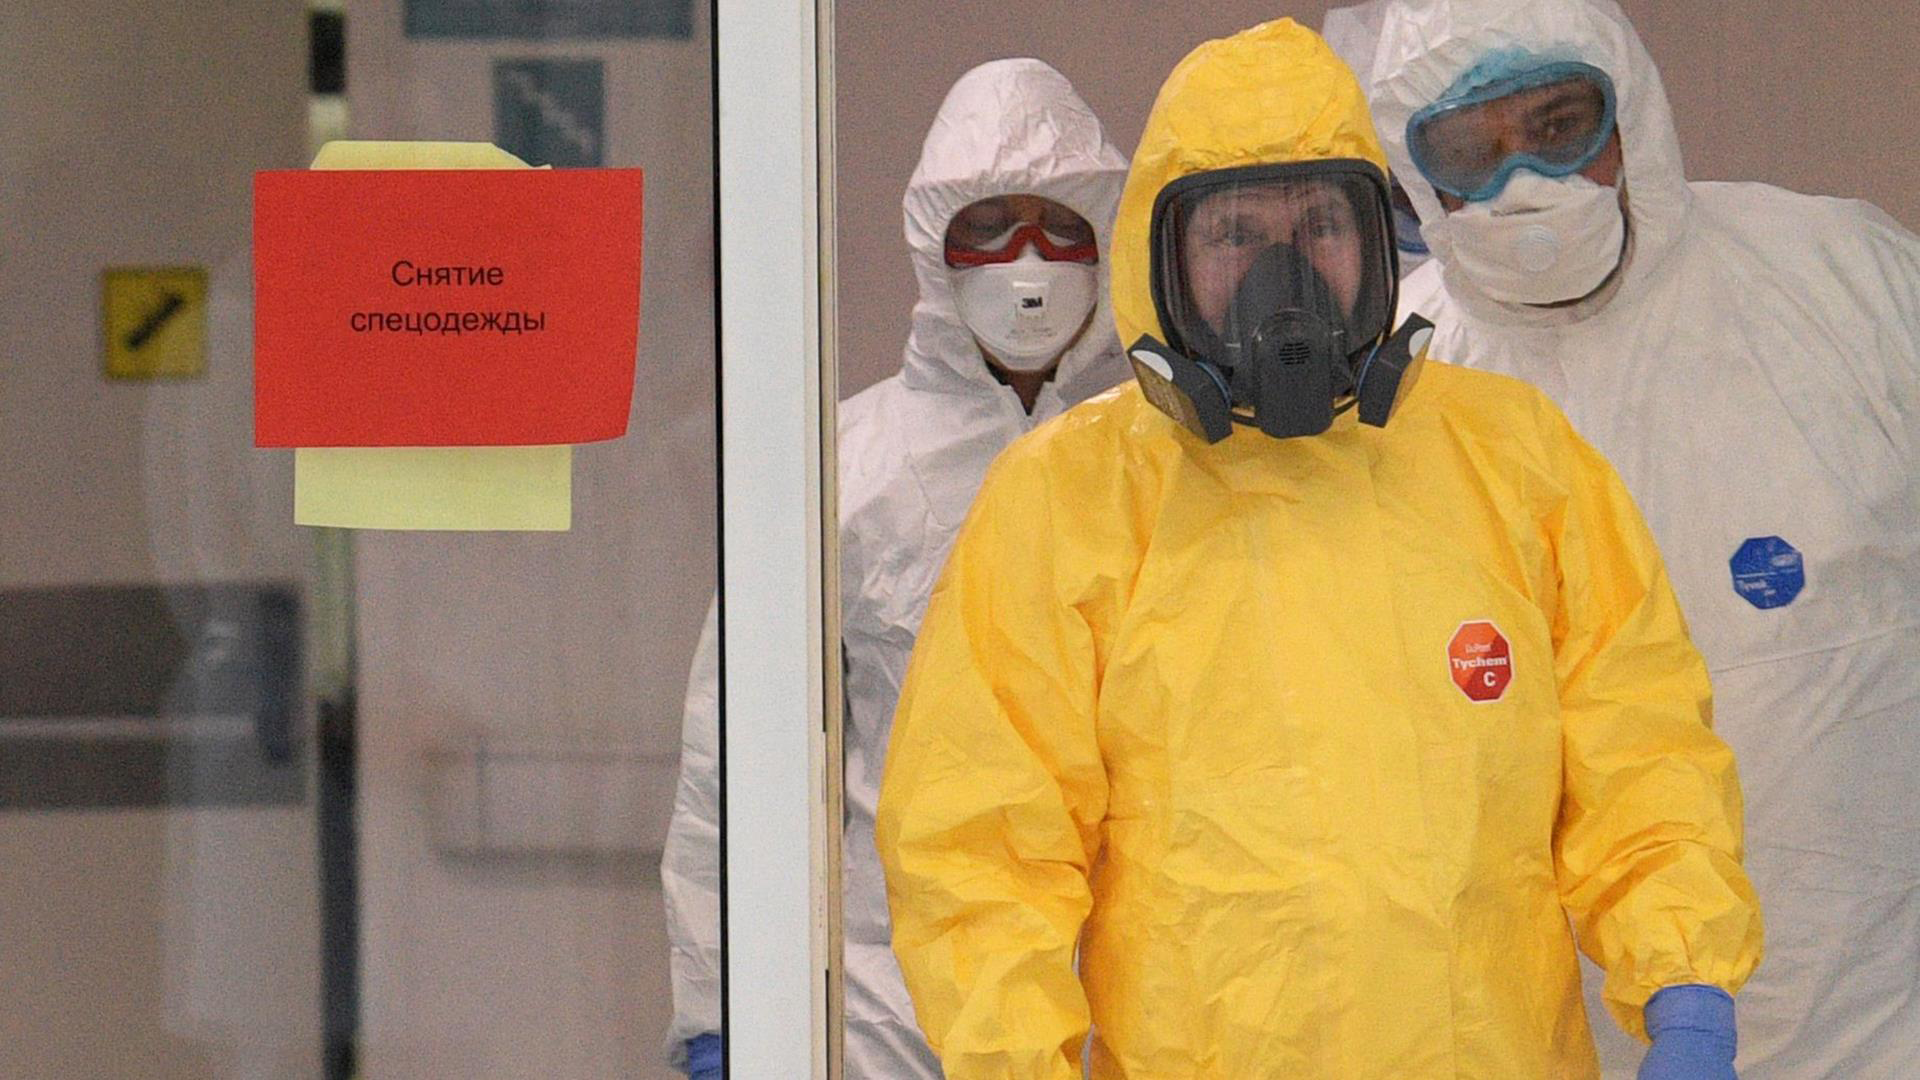Coverall: (883, 29, 1731, 1080), (1380, 6, 1915, 507)
Goggles: (1394, 59, 1649, 200), (926, 175, 1121, 277)
with_mask: (1147, 162, 1404, 439), (1429, 130, 1643, 315), (944, 203, 1110, 373)
